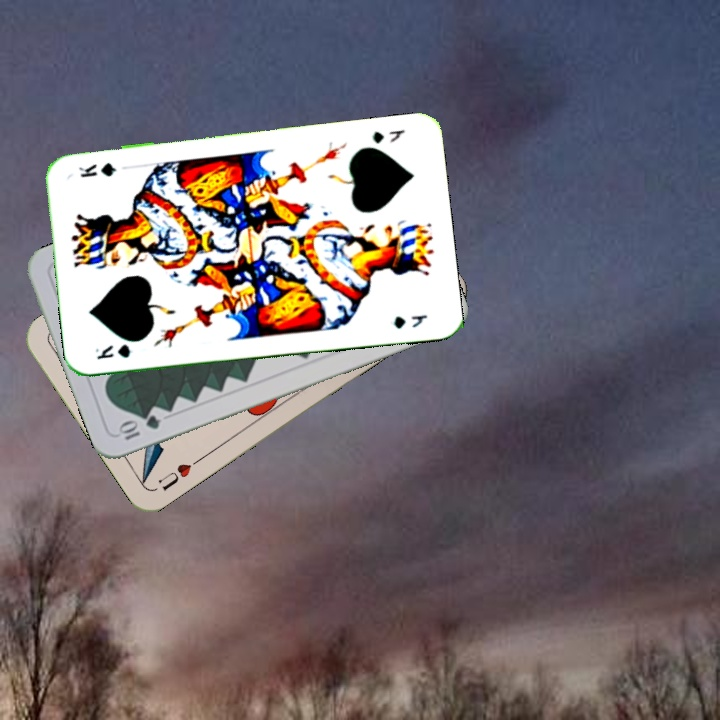G10: (114, 411, 163, 443)
GK: (93, 340, 133, 362), (368, 125, 408, 146)
HU: (154, 454, 204, 493)
